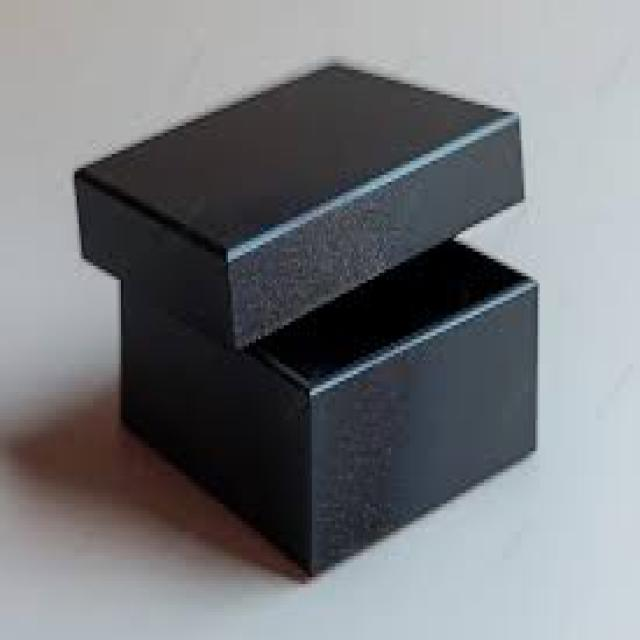box: (122, 242, 537, 573), (77, 67, 523, 346)
